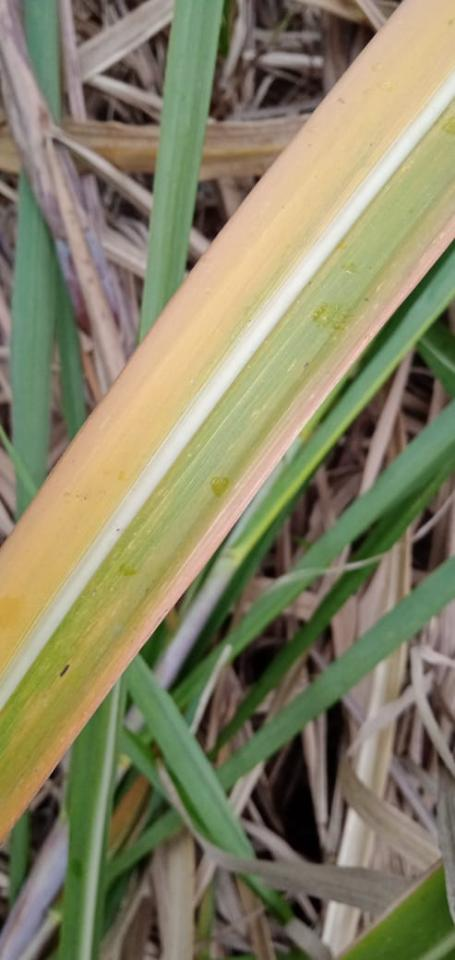Rust: (58, 663, 71, 679)
Yellow: (0, 0, 454, 677), (0, 210, 454, 848)
